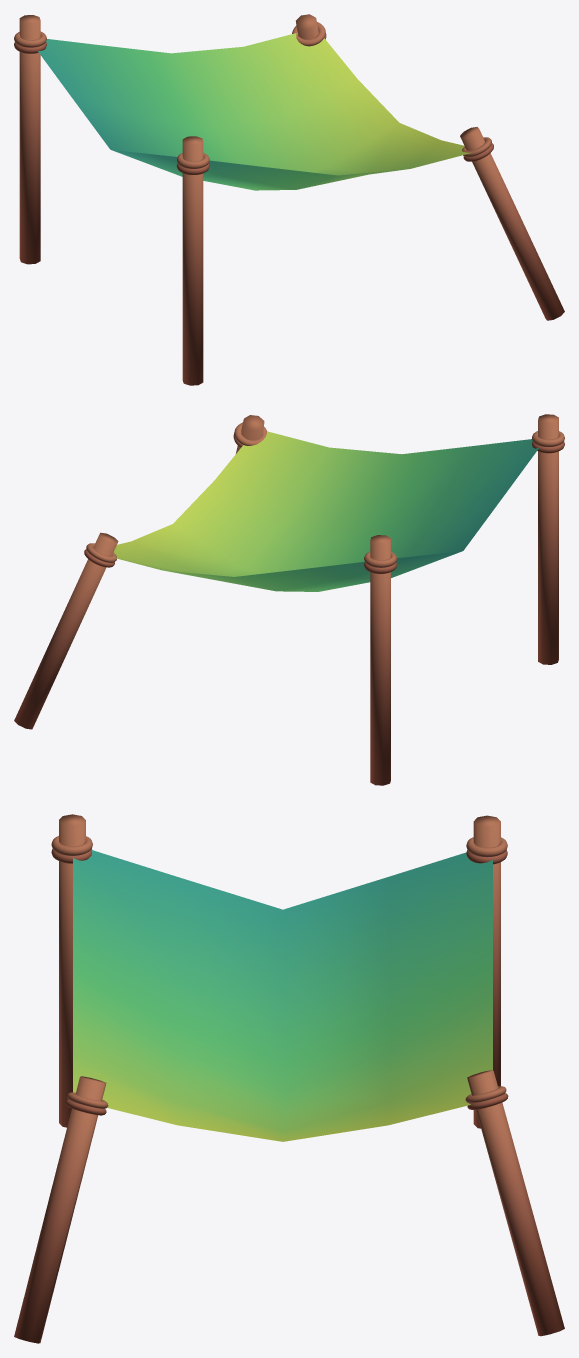
Rendered from Parasol12.fbx.
3 views of the same model, one above another, from view 1: azimuth 30°, elevation 25°; view 2: azimuth 150°, elevation 25°; view 3: azimuth 270°, elevation 25° (orthographic). The views are drawn at different scales.
Visible parts, largest first — view 1: Parasol12; view 2: Parasol12; view 3: Parasol12.
Part boxes in pixels (x1,y1,x2,y2): Parasol12: (14,14,564,385); Parasol12: (14,414,564,785); Parasol12: (14,814,564,1343).
Size of the model in its own units: 1.47 by 0.9559 by 1.52.
Materials: 1 (1 with a texture image).
